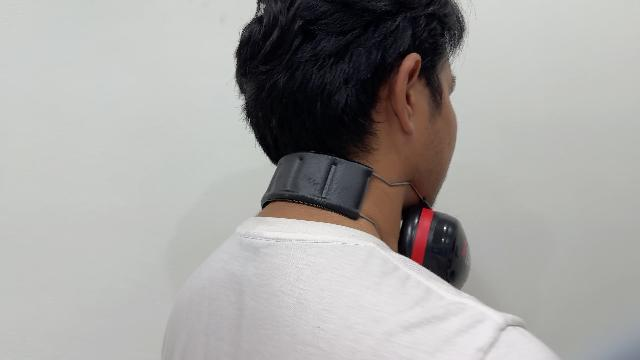headphones: (262, 153, 412, 228)
right_ear: (389, 52, 422, 136)
